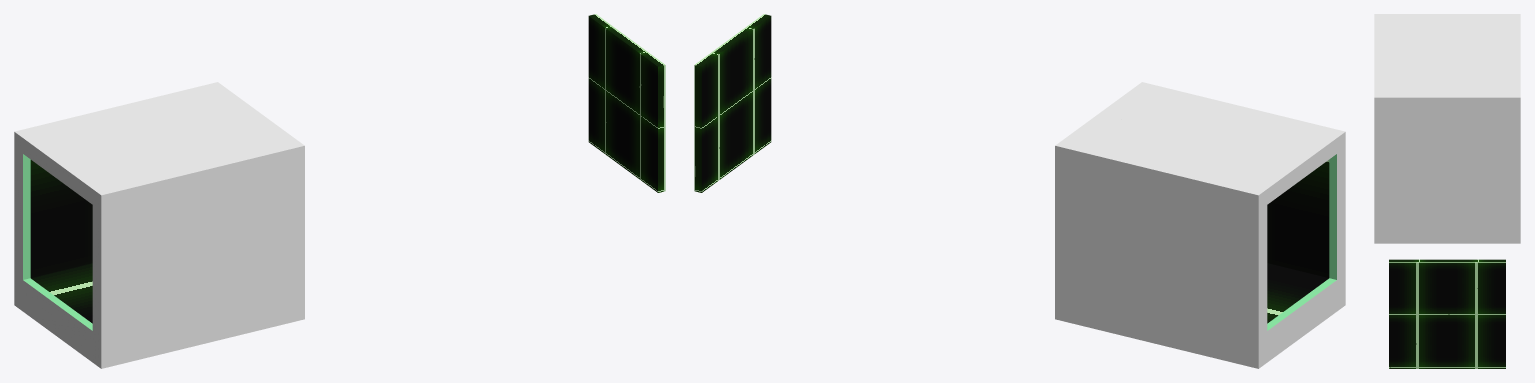
File: BetaLevel1.fbx
3 renders of one model, left to right at view 1: azimuth 30°, elevation 25°; view 2: azimuth 150°, elevation 25°; view 3: azimuth 270°, elevation 25°, orthographic. The views are drawn at different scales.
Parts seen in each view (by area): view 1: walll_l1 Mesh (1), EntranceDoorStencilRead Mesh (1), teleporter_wall1grid Mesh (1), wall1 Mesh (1), teleporter_wallCorner1 Mesh (1); view 2: walll_l1 Mesh (1), EntranceDoorStencilRead Mesh (1), teleporter_wall1grid Mesh (1), wall1 Mesh (1), teleporter_wallCorner1 Mesh (1); view 3: walll_l1 Mesh (1), EntranceDoorStencilRead Mesh (1), wall1 Mesh (1).
Boxes of the visible parts, box(x1,y1,x2,y2) form: walll_l1 Mesh (1): box(14, 82, 304, 368); EntranceDoorStencilRead Mesh (1): box(588, 14, 665, 192); teleporter_wall1grid Mesh (1): box(30, 160, 92, 323); wall1 Mesh (1): box(188, 87, 282, 326); teleporter_wallCorner1 Mesh (1): box(23, 154, 92, 330); walll_l1 Mesh (1): box(1055, 82, 1345, 368); EntranceDoorStencilRead Mesh (1): box(694, 14, 771, 192); teleporter_wall1grid Mesh (1): box(1267, 160, 1329, 323); wall1 Mesh (1): box(1077, 87, 1171, 326); teleporter_wallCorner1 Mesh (1): box(1267, 154, 1336, 330); walll_l1 Mesh (1): box(1374, 14, 1520, 243); EntranceDoorStencilRead Mesh (1): box(1389, 259, 1505, 368); wall1 Mesh (1): box(1374, 85, 1520, 88).
Size of the model in its own units: 9.5 by 2.75 by 2.5.
